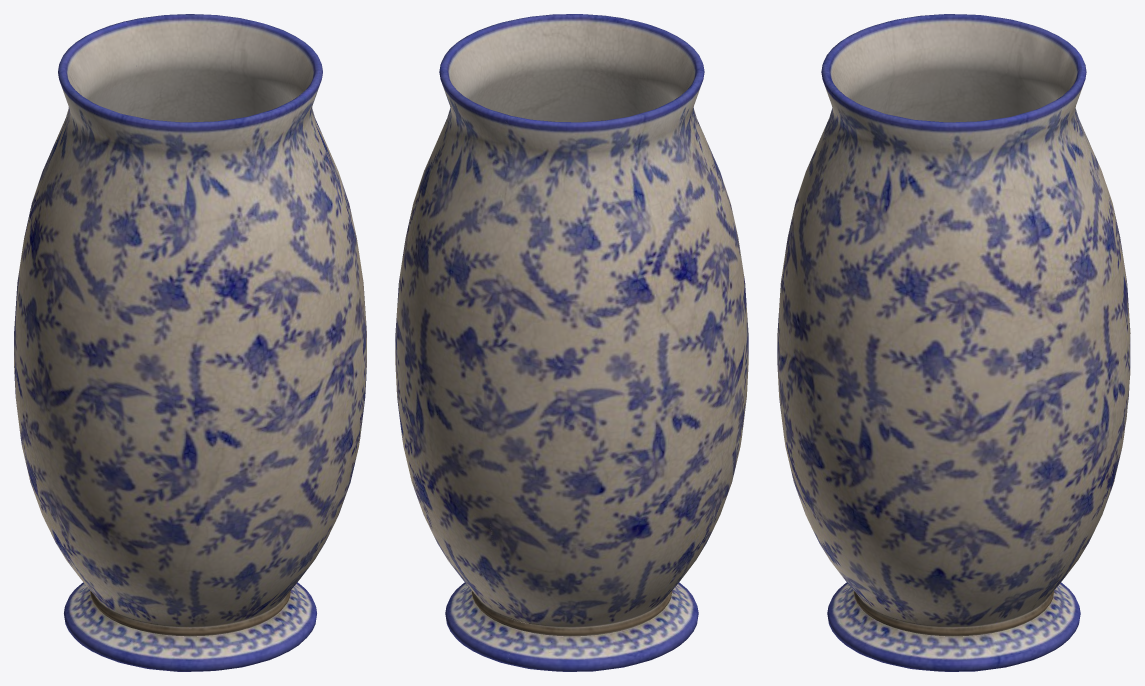
File: antique_vase.glb
The picture shows the model from 3 angles, left to right: view 1: azimuth 30°, elevation 25°; view 2: azimuth 150°, elevation 25°; view 3: azimuth 270°, elevation 25°; orthographic projection.
Parts seen in each view (by area): view 1: antique_ceramic_vase_01; view 2: antique_ceramic_vase_01; view 3: antique_ceramic_vase_01.
Part boxes in pixels (bbox=[...]): antique_ceramic_vase_01: bbox=[14, 14, 366, 671]; antique_ceramic_vase_01: bbox=[395, 14, 748, 671]; antique_ceramic_vase_01: bbox=[777, 14, 1130, 671].
Bounding box in the file's own units: 0.2548 × 0.4397 × 0.2549.
1 material, 1 textured.
